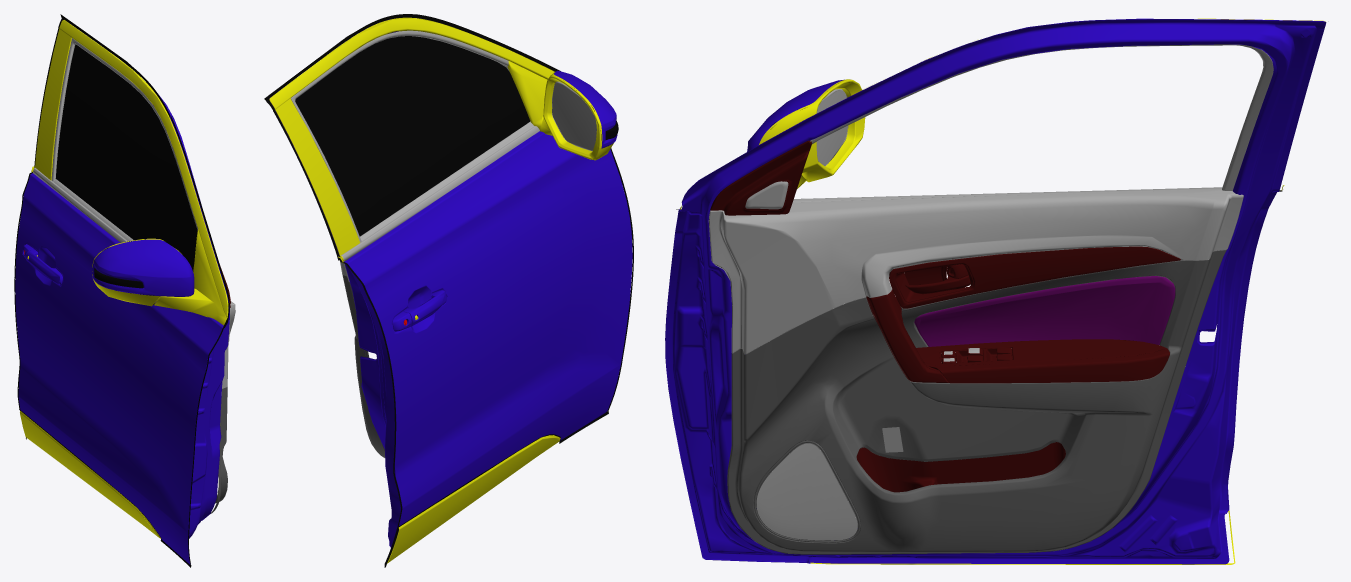
The model's file is TOYOTA_URBAN_CRUISER_MID_EX_FR_DOORS_MESH.glb.
3 views of the same model, side by side, from view 1: azimuth 30°, elevation 25°; view 2: azimuth 150°, elevation 25°; view 3: azimuth 270°, elevation 25° (orthographic). The views are drawn at different scales.
Visible parts, largest first — view 1: TOYOTA_URBAN_CRUISER_MID_EX_FR_DOORS_MESH; view 2: TOYOTA_URBAN_CRUISER_MID_EX_FR_DOORS_MESH; view 3: TOYOTA_URBAN_CRUISER_MID_EX_FR_DOORS_MESH.
Boxes of the visible parts, x1,y1,x2,y2 form: TOYOTA_URBAN_CRUISER_MID_EX_FR_DOORS_MESH: (14, 14, 235, 567); TOYOTA_URBAN_CRUISER_MID_EX_FR_DOORS_MESH: (264, 14, 633, 567); TOYOTA_URBAN_CRUISER_MID_EX_FR_DOORS_MESH: (665, 18, 1326, 564).
Size of the model in its own units: 0.4216 by 1.18 by 1.19.
16 materials, 1 textured.
